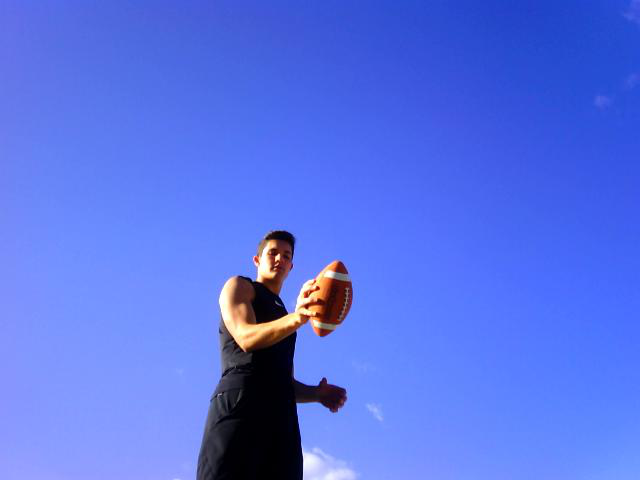footbal: (310, 262, 353, 341)
